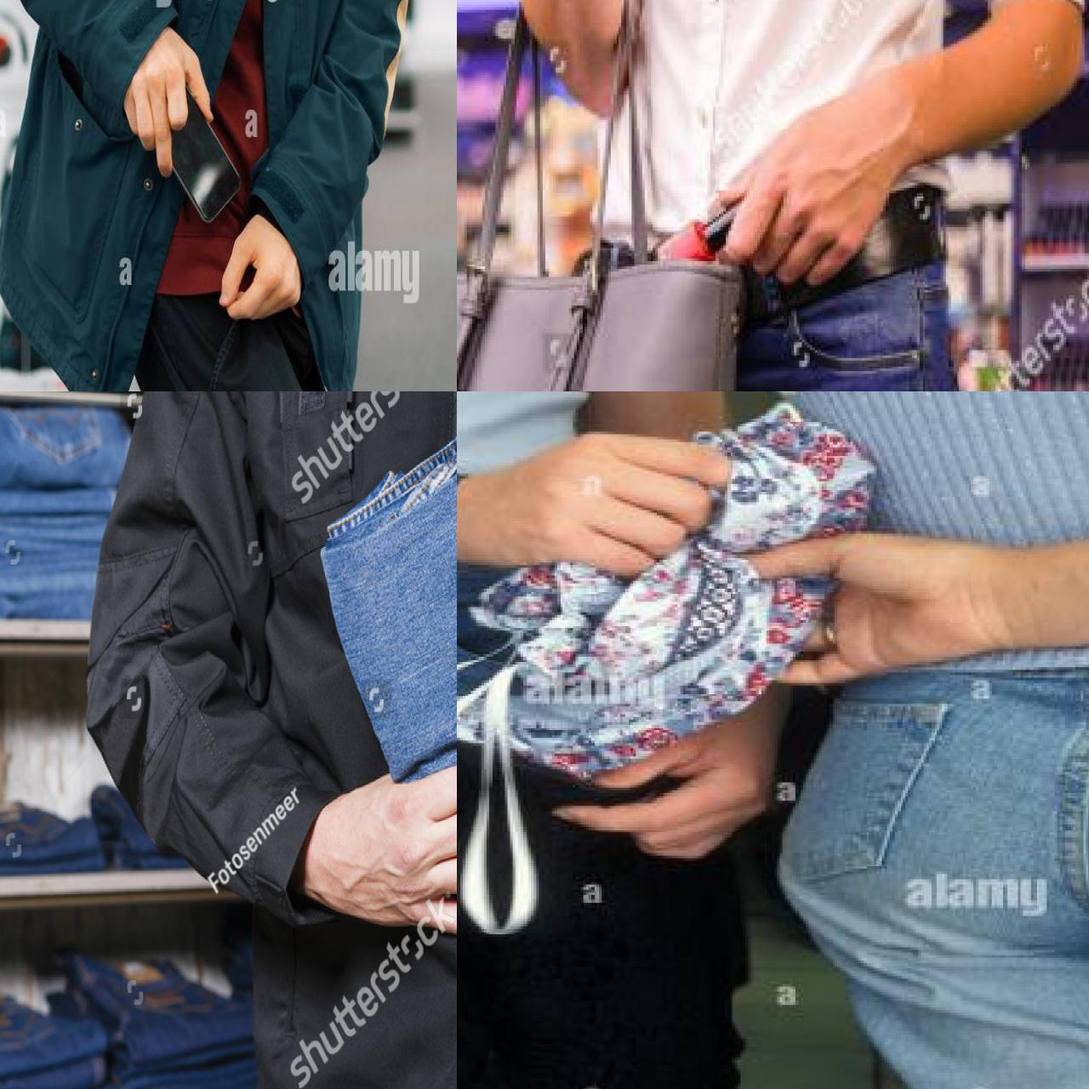shoplifting: (459, 398, 1089, 1089), (1, 396, 455, 1089), (459, 0, 1085, 390), (3, 0, 448, 384)
